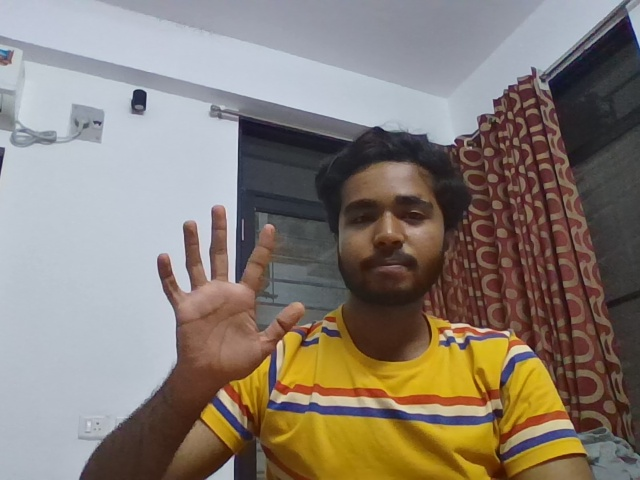Hello: (135, 200, 314, 396)
